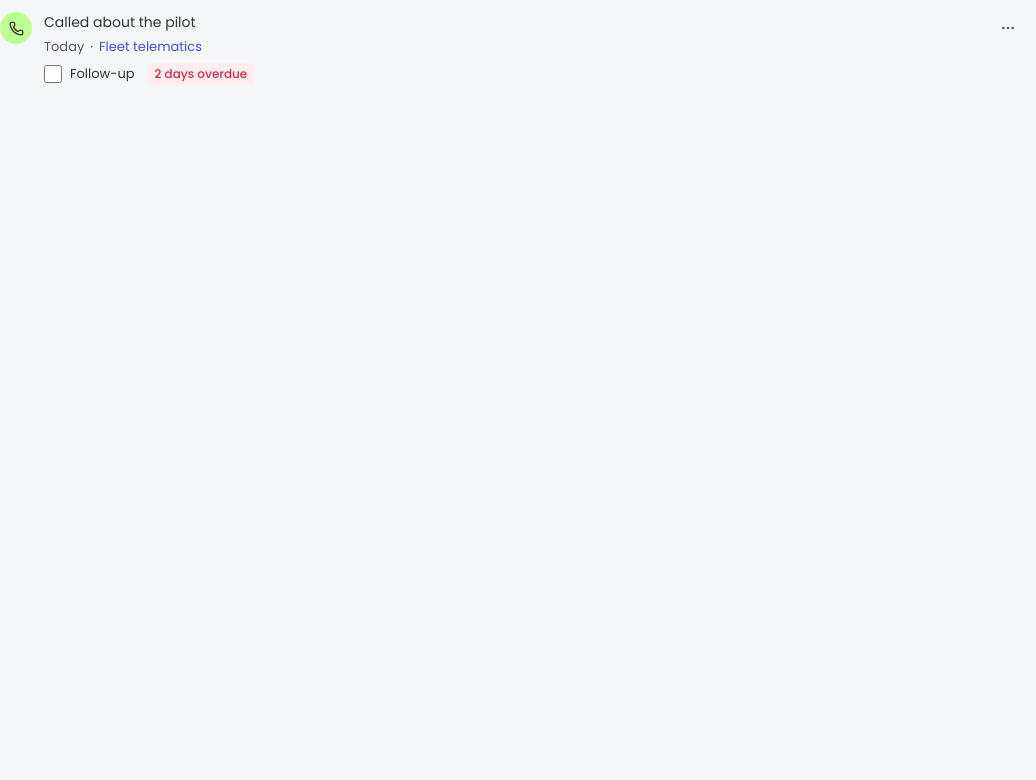
Test: a timeline › shows a follow-up with its label, and marks it done
Expected: the text "2 days overdue" is shown, x1=146 y1=62 x2=255 y2=84
Click the checkbox named "Mark done: Called about the pilot" at (53,74), box x1=44 y1=64 x2=62 y2=82
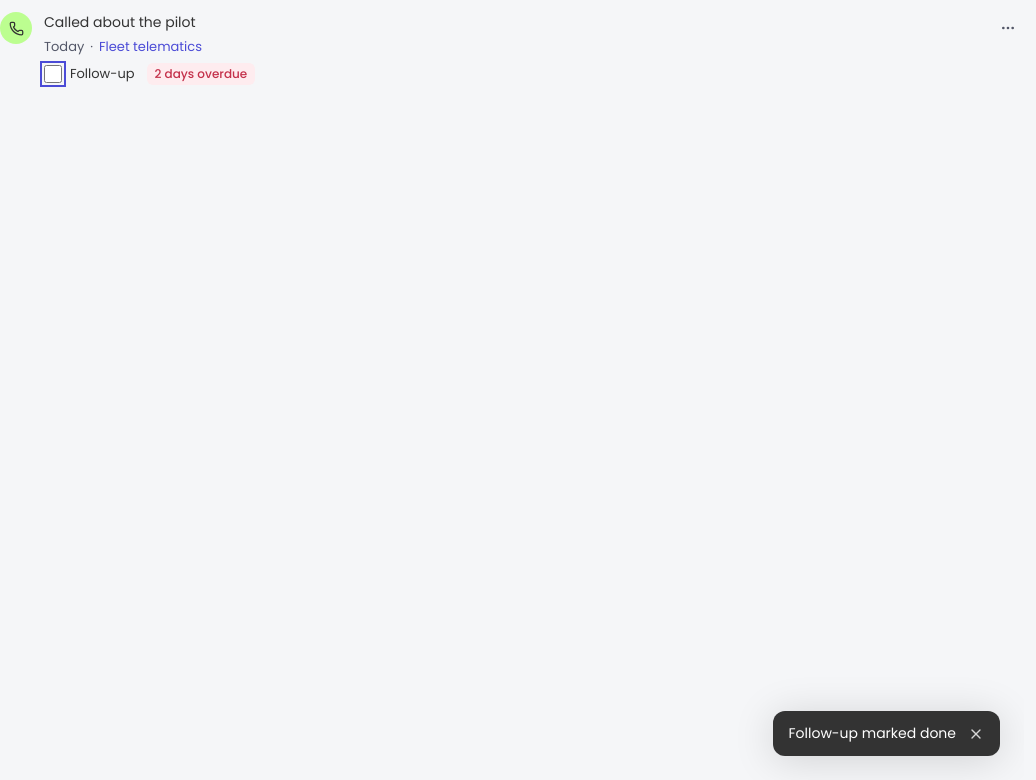
Now the text "Follow-up marked done" is shown, box x1=788 y1=723 x2=956 y2=744
